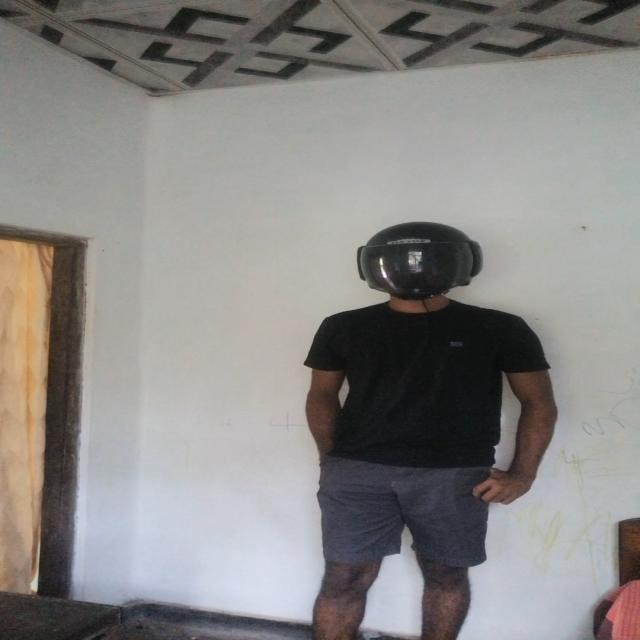Helmet_Wearer: (350, 220, 500, 320)
Person: (297, 217, 558, 640)
